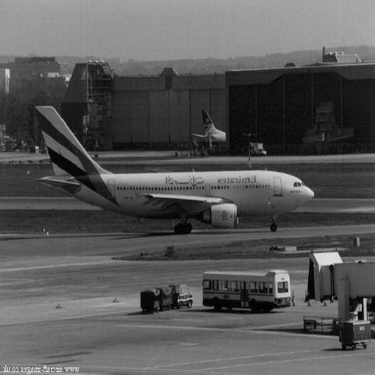airplane: (22, 97, 323, 234), (179, 101, 231, 151)
